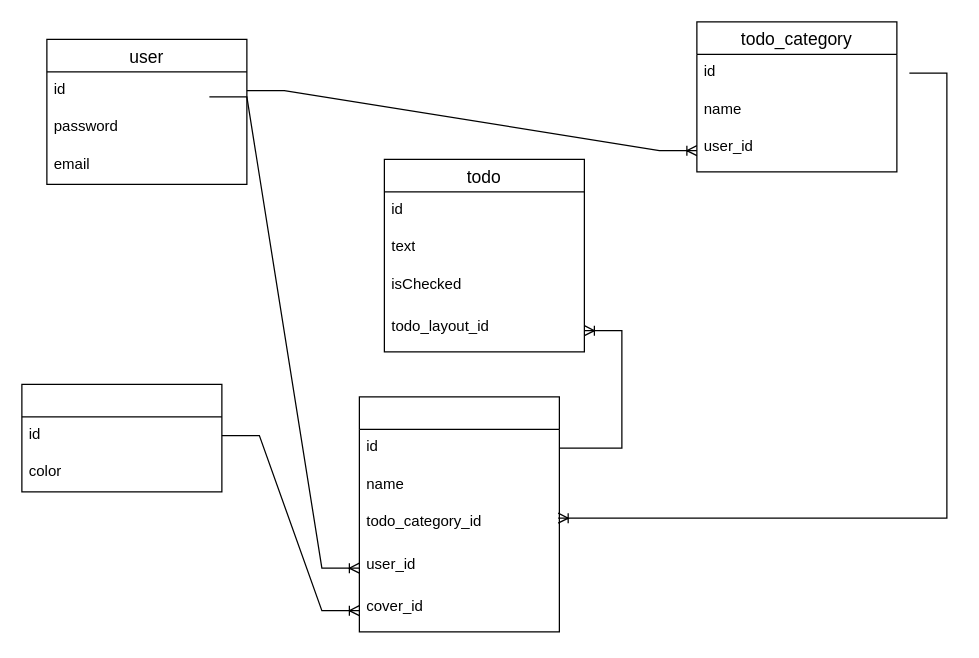
This 979x658 diagram has some shape labels left out. The box of each missing label's shape, as (x1, y1, x2, y2) in pixels:
cover: (21, 383, 222, 492)
todo_layout: (358, 396, 559, 632)
